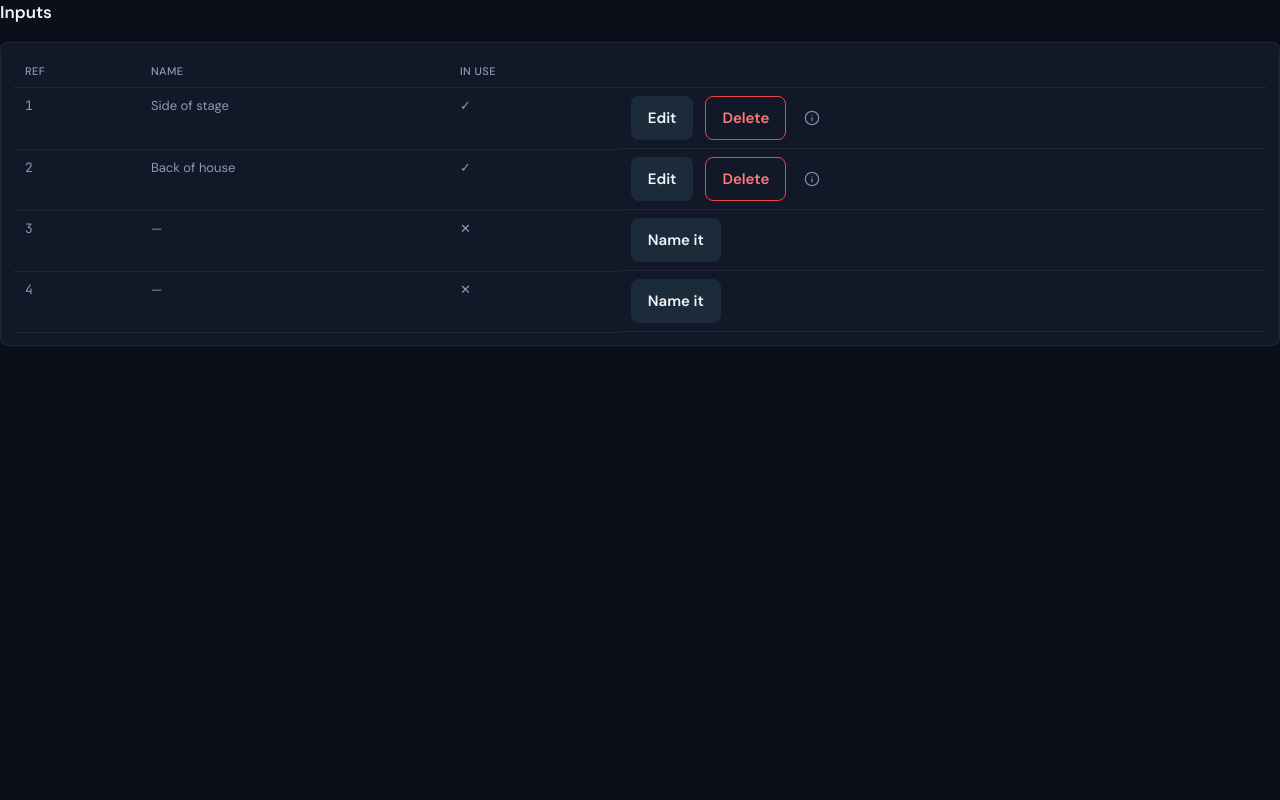
InputsSection › offers reload or overwrite on a version conflict, like the other admin screens
The width and height of the screenshot is (1280, 800).
Click the button "Edit" in the row of "Side of stage" at (662, 118), box [631,96,694,140]
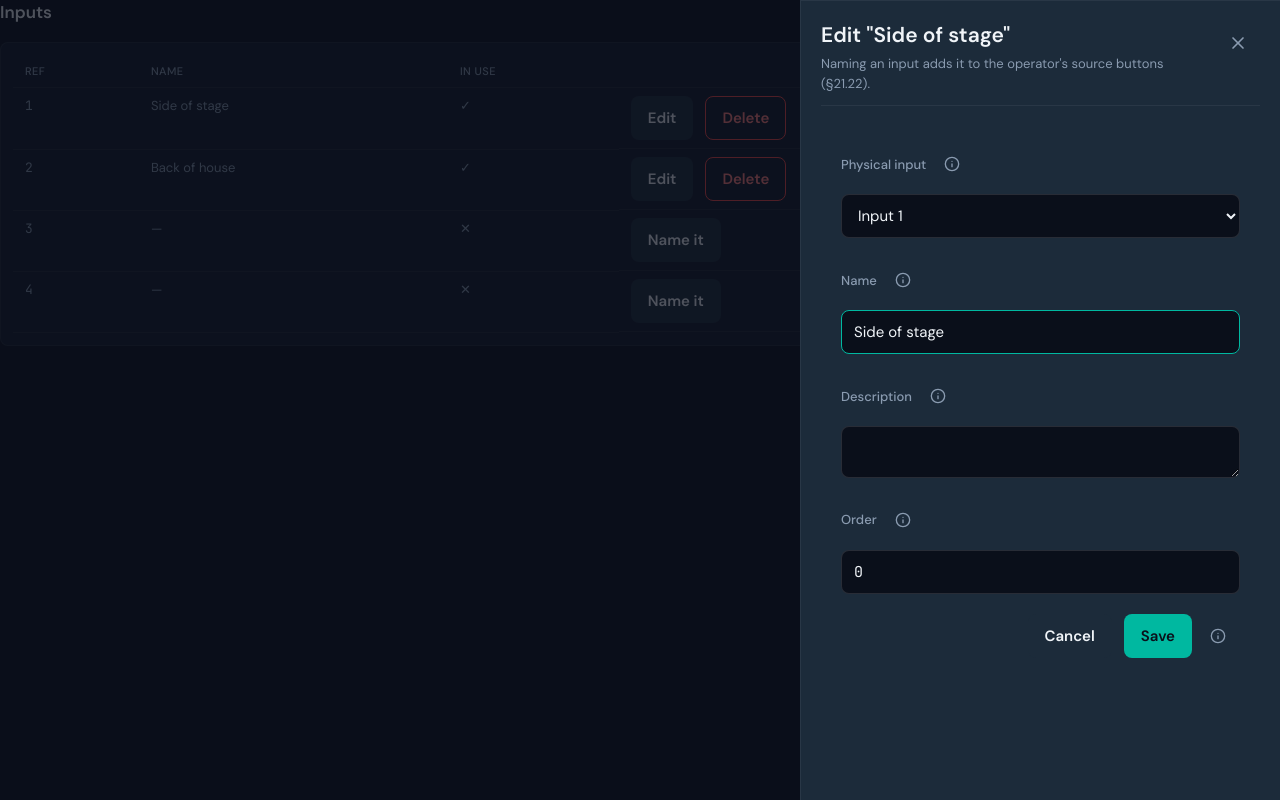
Replace the text in the field labelled "Name" with "Mine" at (1040, 332), box [841,310,1240,354]
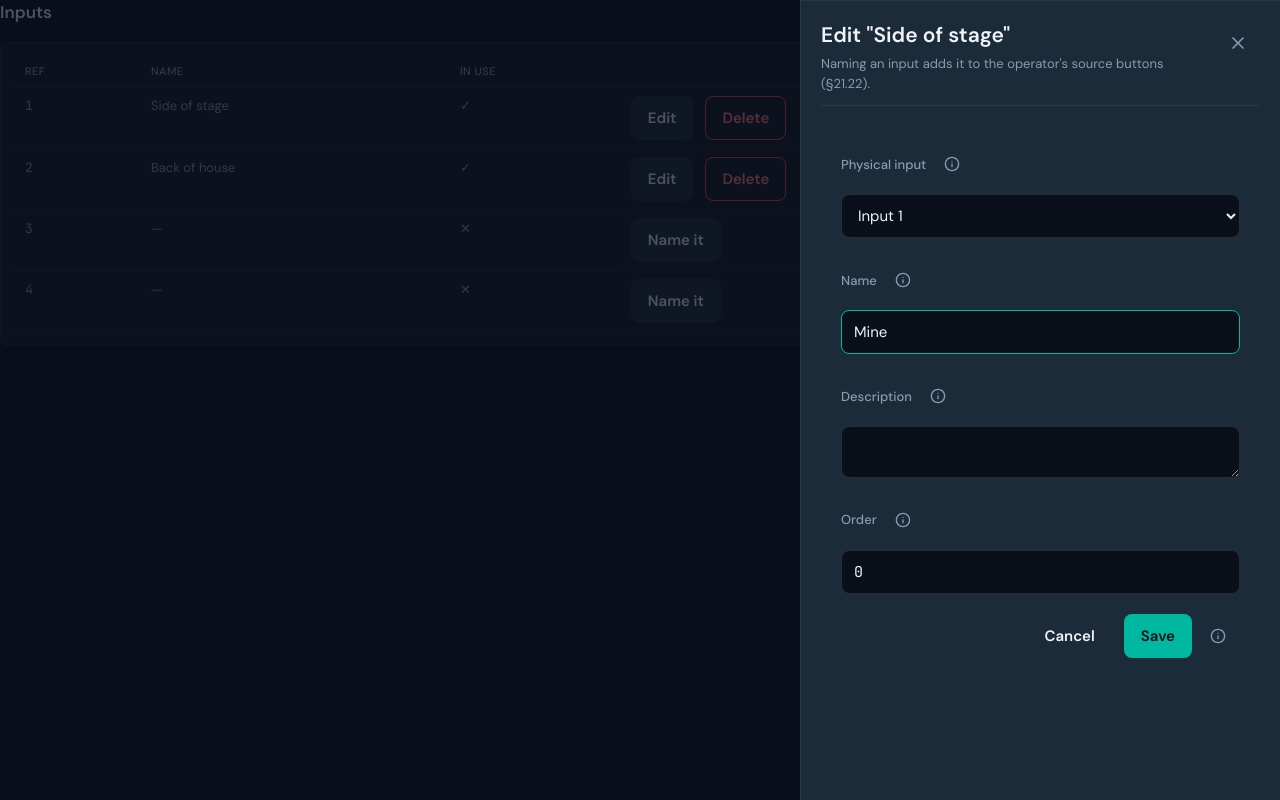
Click the button "Save" at (1158, 636), box [1124,614,1192,658]
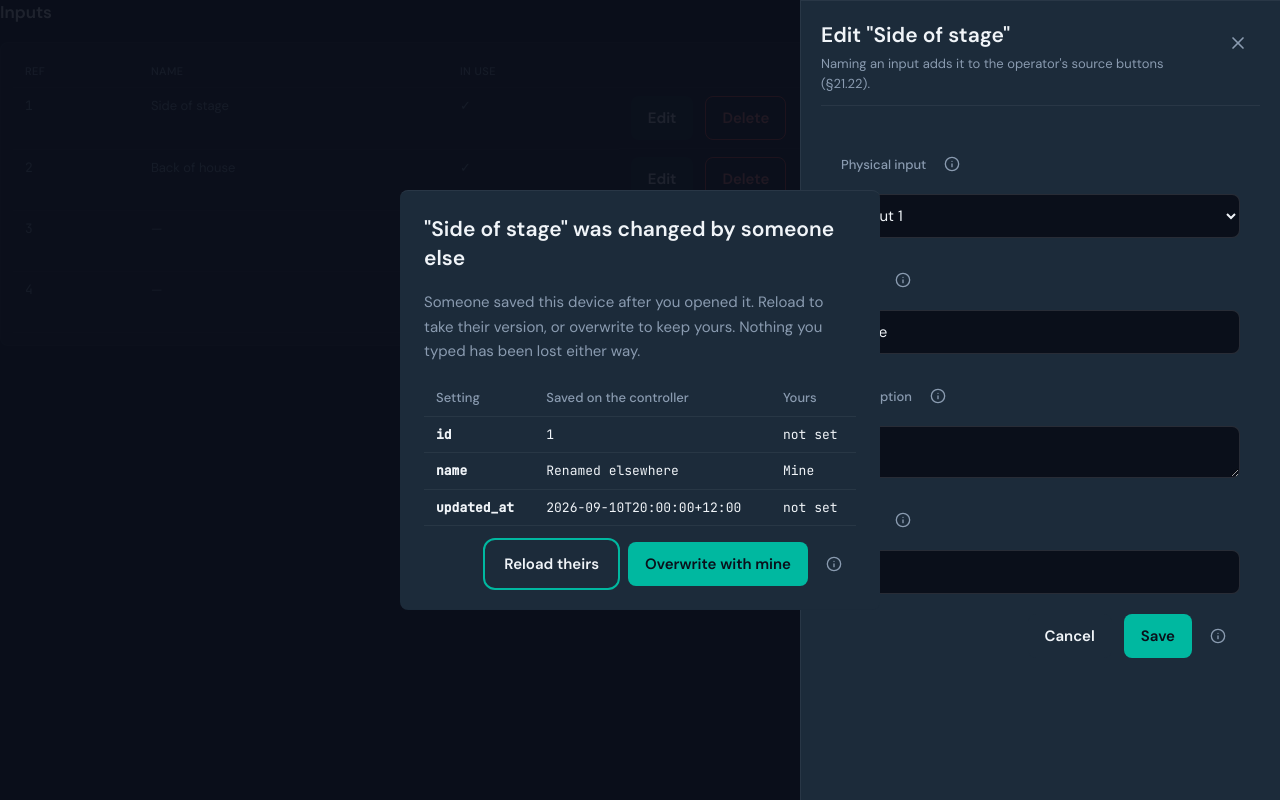
Result: the heading "\"Side of stage\" was changed by someone else" is shown at [424,215,856,274]
Result: the text "Renamed elsewhere" is shown at [534,452,771,489]
Result: the text "Mine" is shown at [771,452,856,489]
